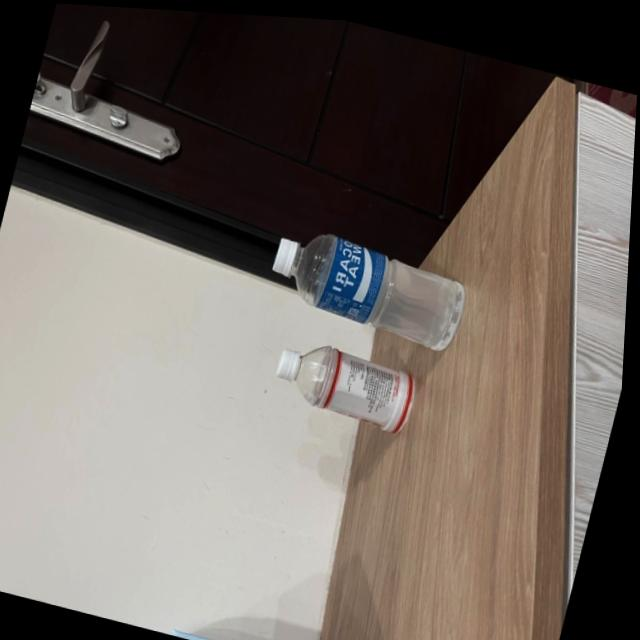anorganik: (251, 206, 489, 350), (256, 332, 430, 447)
